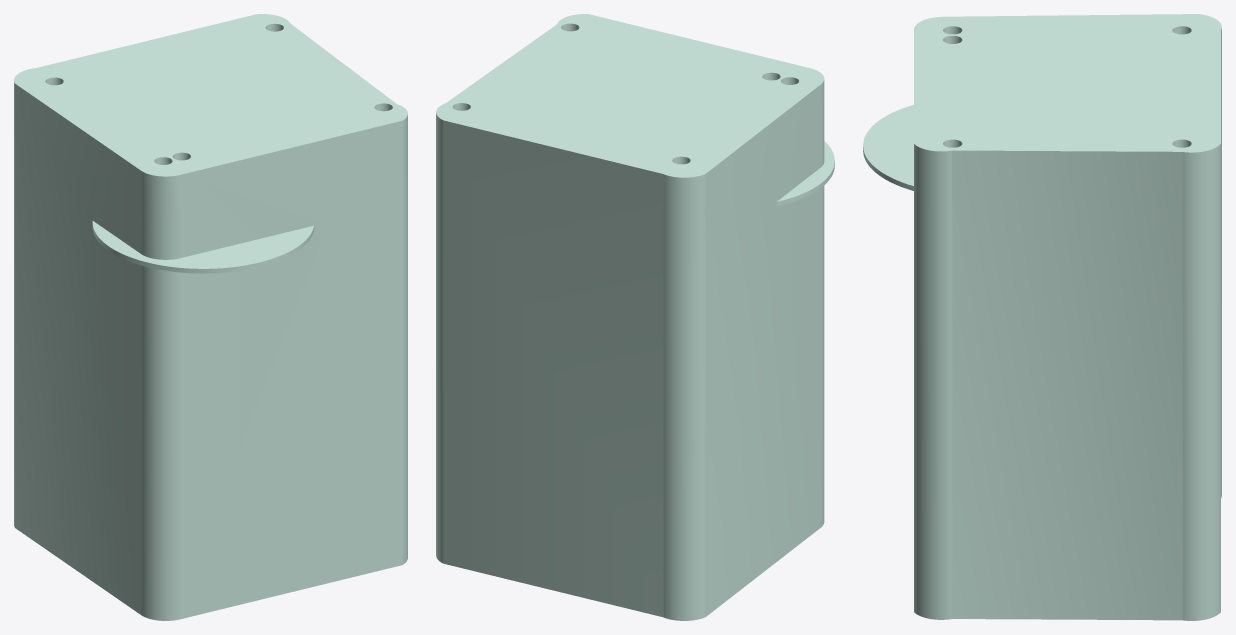
3 views of the same model, side by side, from view 1: azimuth 30°, elevation 25°; view 2: azimuth 150°, elevation 25°; view 3: azimuth 270°, elevation 25° (orthographic). The views are drawn at different scales.
Visible parts, largest first — view 1: Renderer Node; view 2: Renderer Node; view 3: Renderer Node.
Part boxes in pixels (bbox=[...]): Renderer Node: bbox=[14, 14, 407, 620]; Renderer Node: bbox=[436, 14, 834, 620]; Renderer Node: bbox=[863, 14, 1221, 620].
Size of the model in its own units: 0.4954 by 0.75 by 0.5207.
